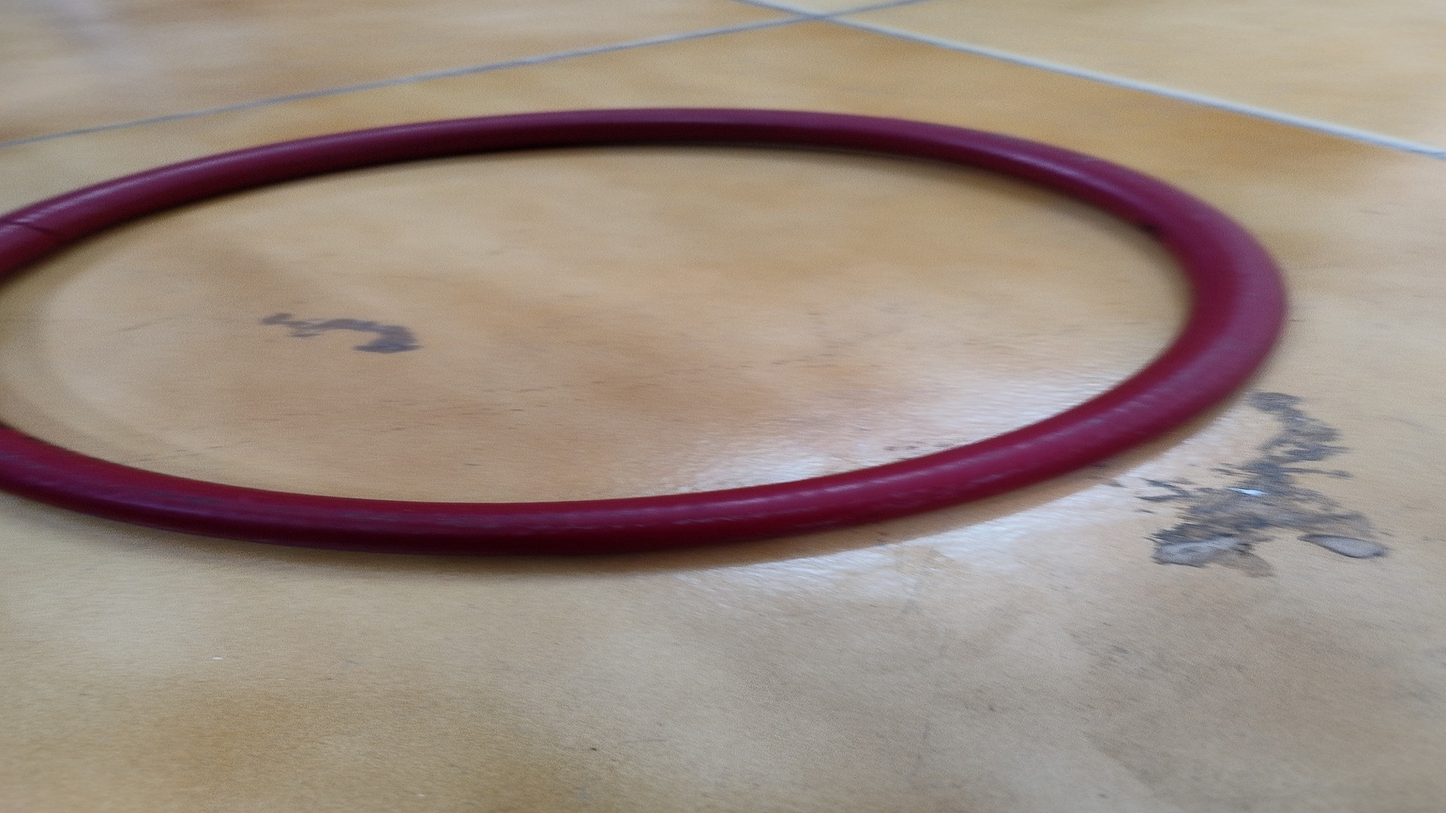Red ring: (6, 100, 1288, 550)
